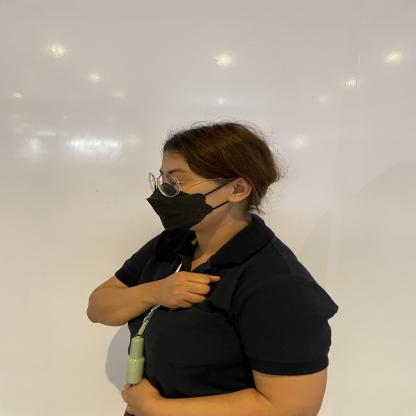Sadness: (72, 248, 229, 338)
